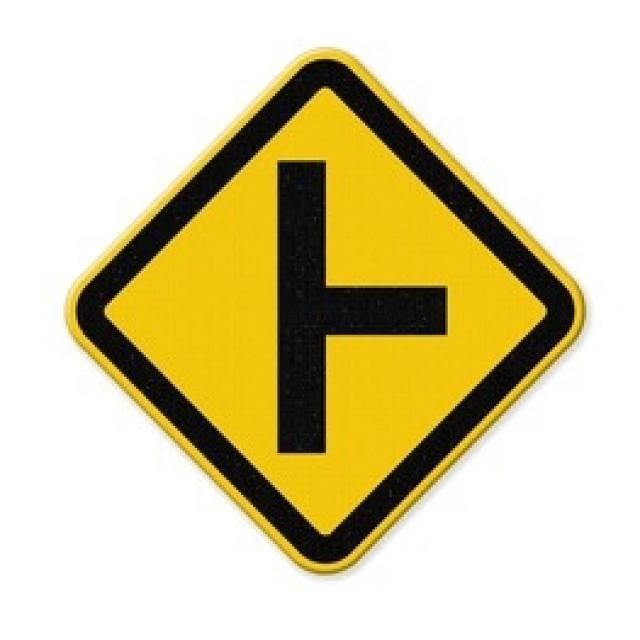side road right: (68, 55, 595, 578)
